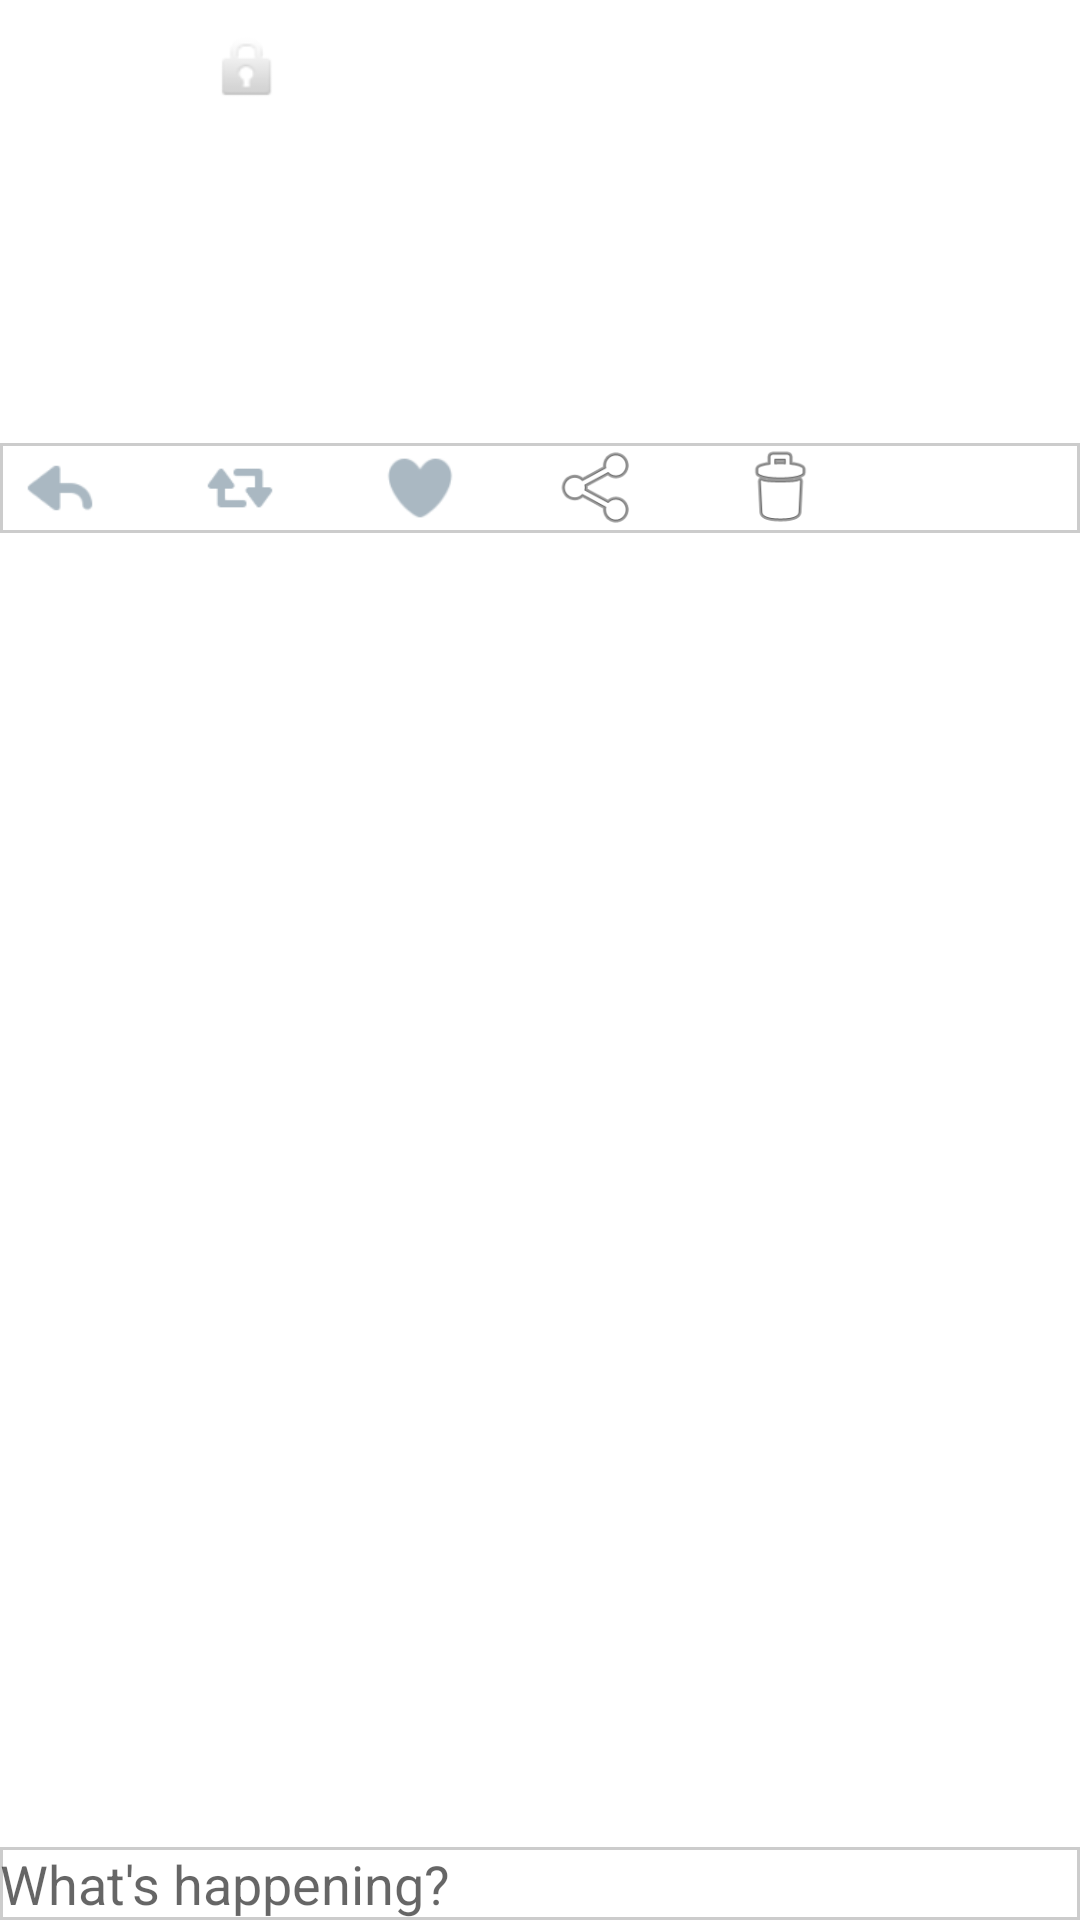

Icons on this 1080w x 1920h Android screen, each with the point to tap as point (x, y):
delete: point (780, 486)
like: point (420, 488)
reply: point (60, 488)
retweet: point (240, 488)
share: point (595, 487)
